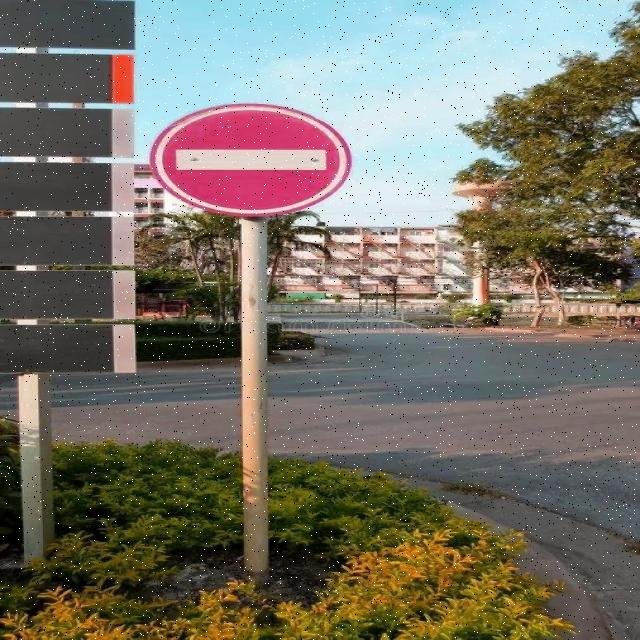No_entry: (153, 104, 354, 216)
